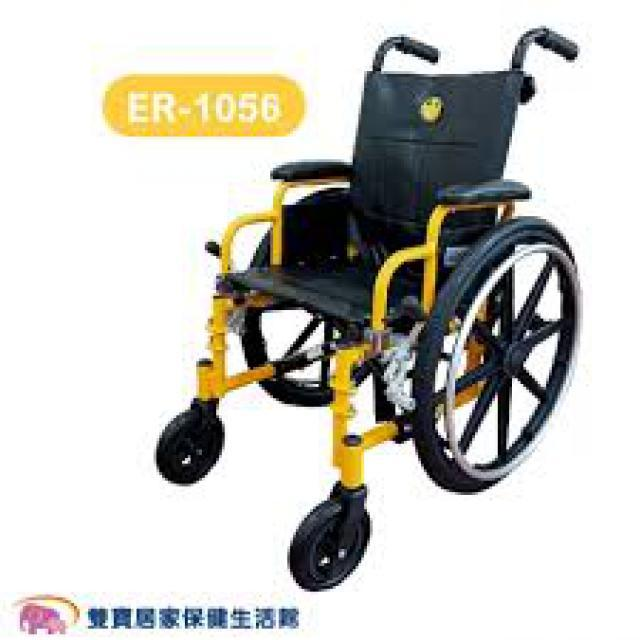wheelchair: (122, 16, 600, 598)
